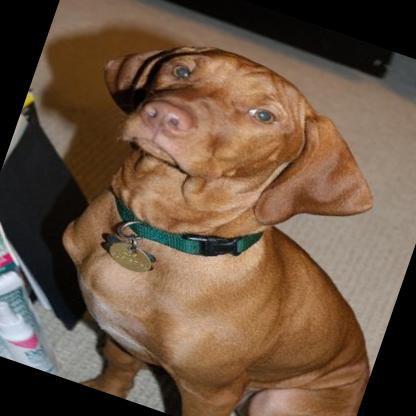vizsla: (2, 11, 416, 416)
